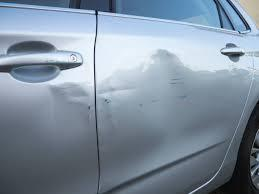dent: (45, 74, 125, 148)
